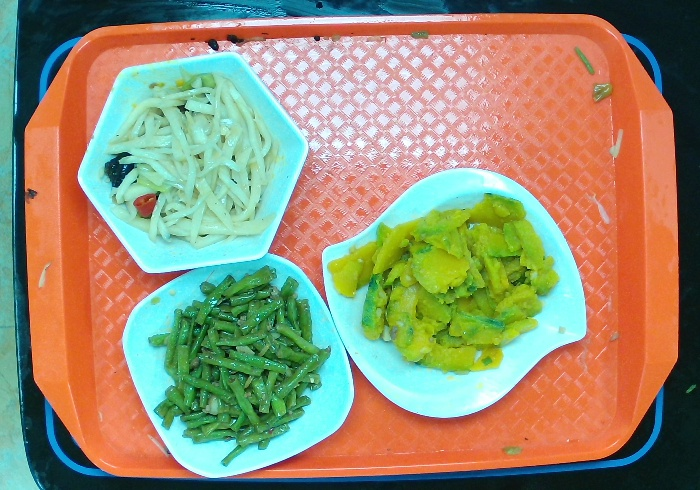RJxy-Liu_Jiao_Wan: (77, 48, 311, 274)
RJxy-Shuang_Jiao_Pan: (319, 167, 590, 422)
RJxy-Si_Fang_Wan: (119, 251, 354, 478)
